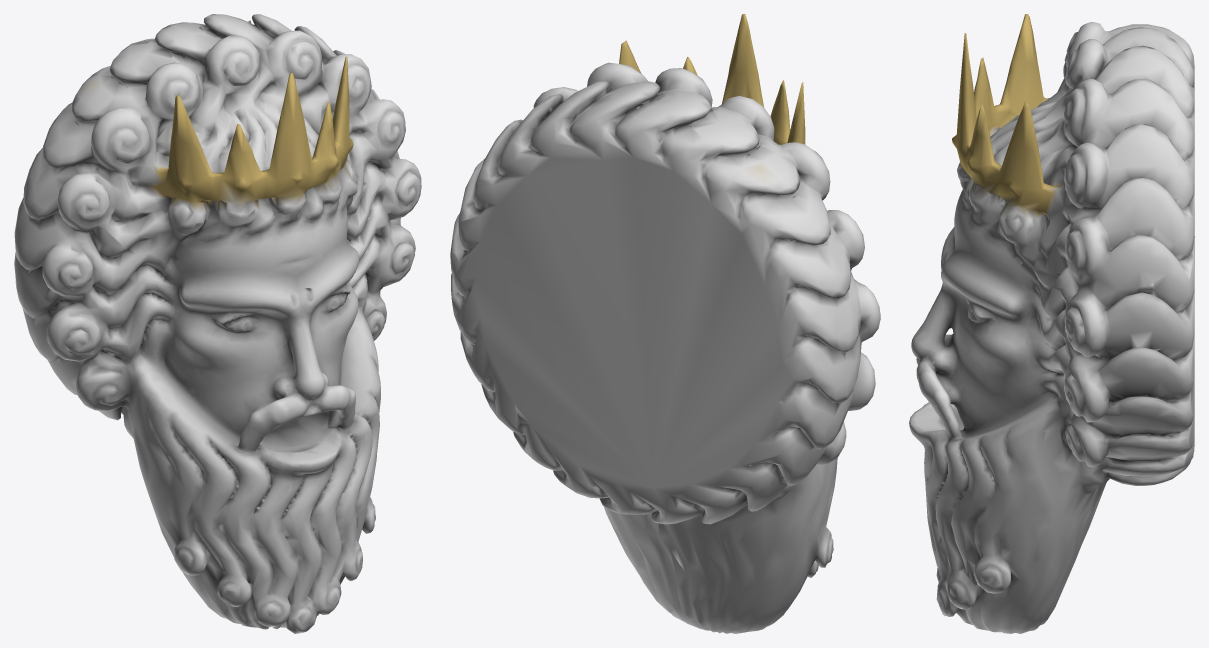
The model's file is poseidon_face.glb.
3 renders of one model, left to right at view 1: azimuth 30°, elevation 25°; view 2: azimuth 150°, elevation 25°; view 3: azimuth 270°, elevation 25°, orthographic. The views are drawn at different scales.
Parts seen in each view (by area): view 1: poseidon_face; view 2: poseidon_face; view 3: poseidon_face.
Part boxes in pixels (left/top/right/bottom): poseidon_face: left=14, top=14, right=421, bottom=633; poseidon_face: left=450, top=14, right=880, bottom=633; poseidon_face: left=909, top=14, right=1194, bottom=633.
Bounding box in the file's own units: 19.72 × 28.25 × 12.35.
